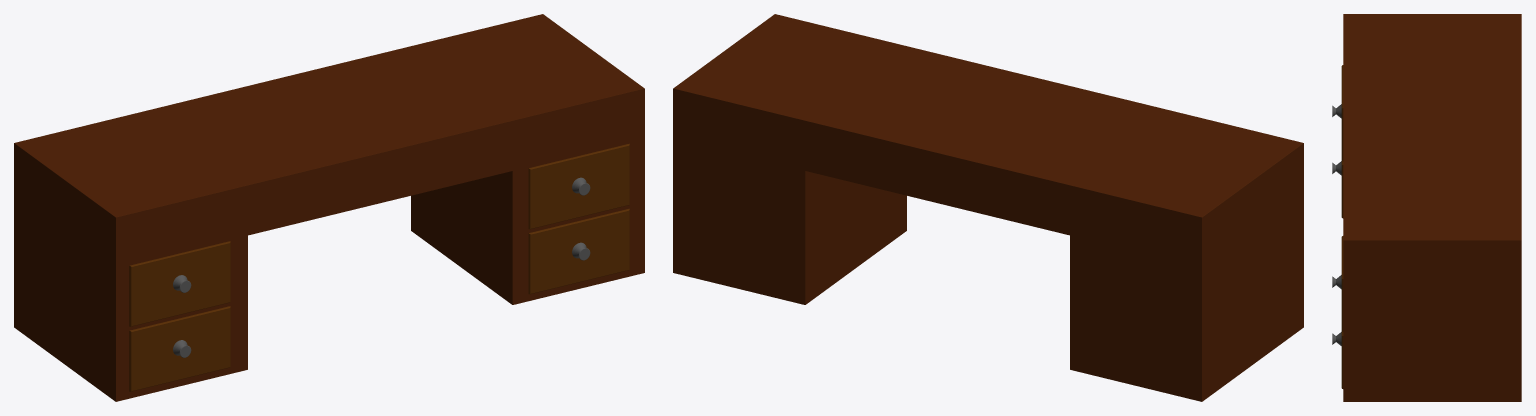
The model's file is Office_Desk.glb.
The picture shows the model from 3 angles, left to right: view 1: azimuth 30°, elevation 25°; view 2: azimuth 150°, elevation 25°; view 3: azimuth 270°, elevation 25°; orthographic projection. The views are drawn at different scales.
Parts seen in each view (by area): view 1: Desk, Drawer, Drawer.001, Drawer.002, Drawer.003; view 2: Desk; view 3: Desk, Drawer, Drawer.003, Drawer.001, Drawer.002.
Boxes of the visible parts, x1=… form: Desk: x1=14, y1=14, x2=644, y2=401; Drawer: x1=129, y1=241, x2=230, y2=326; Drawer.001: x1=129, y1=306, x2=230, y2=391; Drawer.002: x1=528, y1=208, x2=629, y2=294; Drawer.003: x1=528, y1=143, x2=629, y2=229; Desk: x1=673, y1=14, x2=1303, y2=401; Desk: x1=1343, y1=14, x2=1521, y2=401; Drawer: x1=1332, y1=65, x2=1343, y2=161; Drawer.003: x1=1332, y1=236, x2=1343, y2=331; Drawer.001: x1=1332, y1=161, x2=1343, y2=218; Drawer.002: x1=1332, y1=331, x2=1343, y2=388.
Bounding box in the file's own units: 6 × 2 × 2.12.
